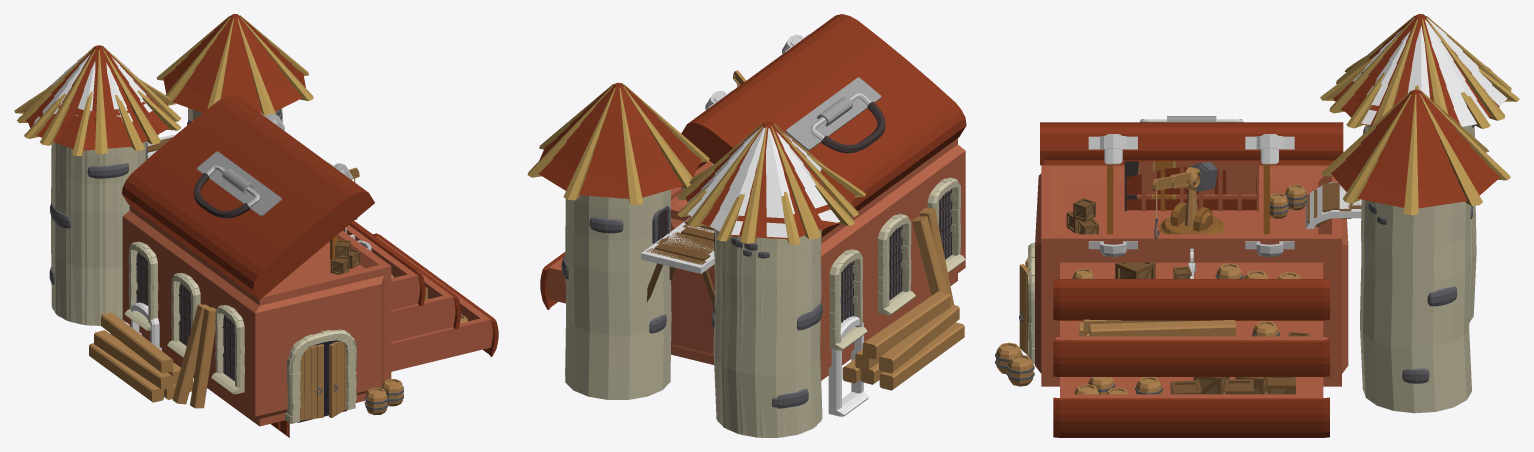
File: Warehouse_Big.glb
The picture shows the model from 3 angles, left to right: view 1: azimuth 30°, elevation 25°; view 2: azimuth 150°, elevation 25°; view 3: azimuth 270°, elevation 25°; orthographic projection. The views are drawn at different scales.
Visible parts, largest first — view 1: Warehouse, Silo.002, SiloDach, Cylinder.002, BACKUP_Window; view 2: Warehouse, Silo.002, SiloDach, Cylinder.002, BACKUP_Window, Cube.001; view 3: Warehouse, Plane.001, Filled_Low, Filled_Middle, SiloDach, Silo.002, Cylinder.002, Filled_Top, Cube.001.
Boxes of the visible parts, bbox=[...] form: Warehouse: bbox=[17, 14, 498, 426]; Silo.002: bbox=[14, 79, 180, 325]; SiloDach: bbox=[34, 54, 152, 123]; Cylinder.002: bbox=[45, 52, 152, 121]; BACKUP_Window: bbox=[131, 302, 161, 350]; Warehouse: bbox=[527, 14, 966, 437]; Silo.002: bbox=[677, 155, 865, 437]; SiloDach: bbox=[688, 127, 839, 237]; Cylinder.002: bbox=[687, 127, 838, 237]; BACKUP_Window: bbox=[828, 316, 868, 416]; Cube.001: bbox=[641, 216, 714, 273]; Warehouse: bbox=[995, 14, 1511, 437]; Plane.001: bbox=[1124, 161, 1258, 211]; Filled_Low: bbox=[1074, 377, 1295, 394]; Filled_Middle: bbox=[1079, 319, 1309, 336]; SiloDach: bbox=[1353, 18, 1507, 126]; Silo.002: bbox=[1320, 55, 1519, 322]; Cylinder.002: bbox=[1371, 20, 1496, 119]; Filled_Top: bbox=[1072, 262, 1300, 278]; Cube.001: bbox=[1305, 182, 1361, 228].
Bounding box in the file's own units: 4.81 × 4.54 × 5.98.
1 material, 1 textured.
